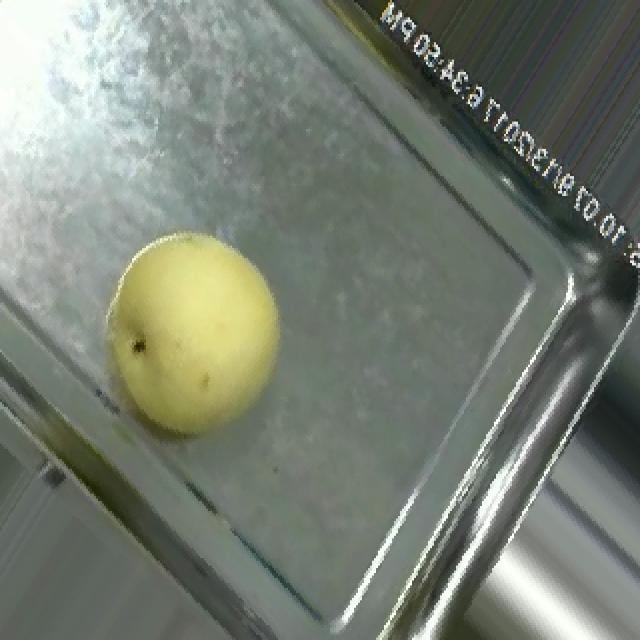Fruit: (68, 201, 304, 461)
